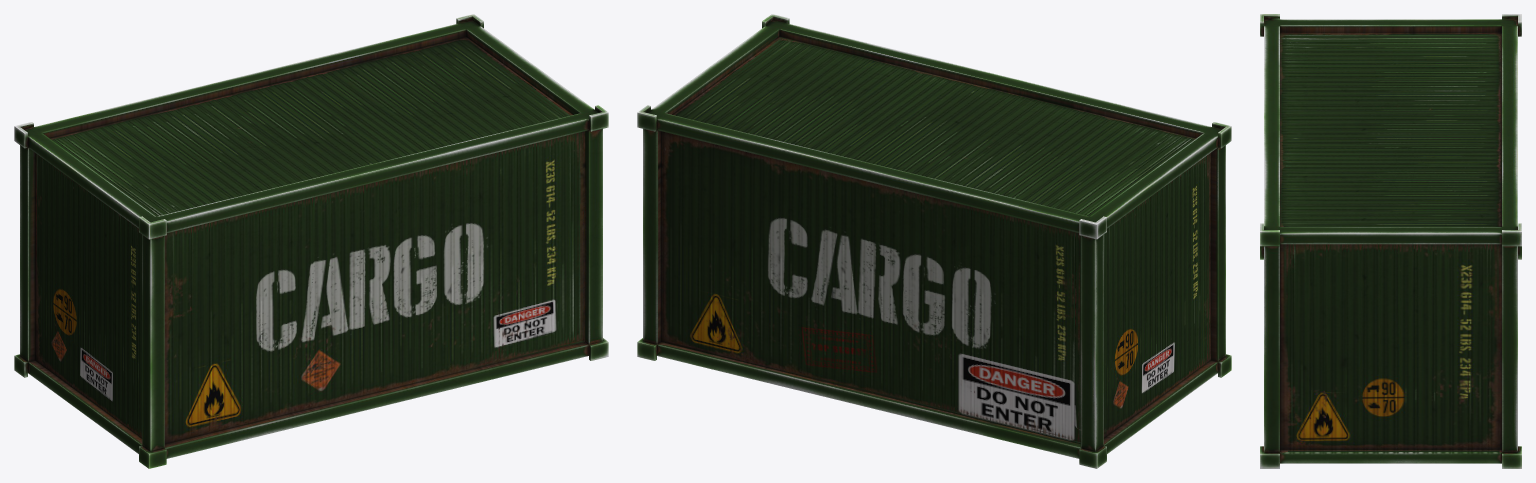
The model's file is Container-1.FBX.
3 renders of one model, left to right at view 1: azimuth 30°, elevation 25°; view 2: azimuth 150°, elevation 25°; view 3: azimuth 270°, elevation 25°, orthographic. The views are drawn at different scales.
Parts seen in each view (by area): view 1: Container-1; view 2: Container-1; view 3: Container-1.
Part boxes in pixels (x1,y1,x2,y2): Container-1: (14, 14, 608, 468); Container-1: (637, 14, 1231, 468); Container-1: (1260, 14, 1521, 468).
Size of the model in its own units: 250 by 127 by 127.
1 material, 1 textured.
